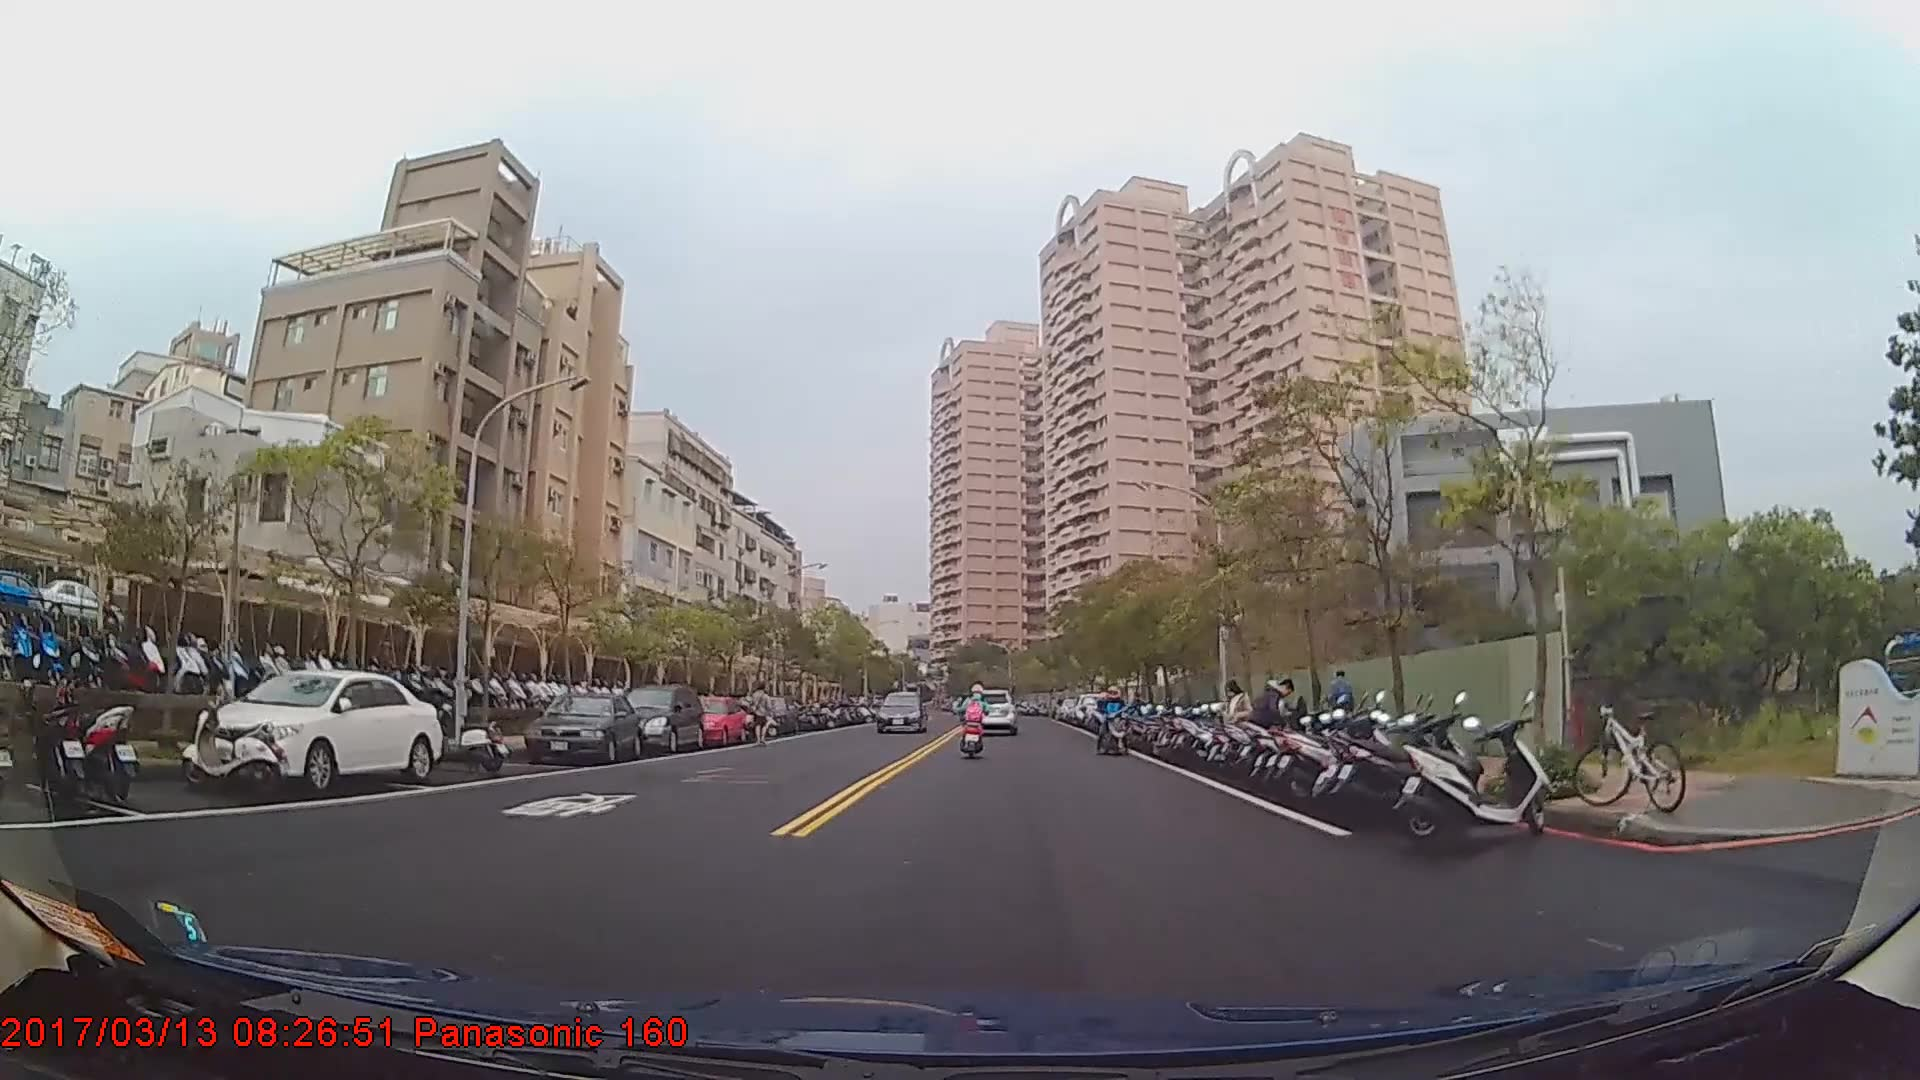pedestrian: (1248, 676, 1297, 779), (1218, 679, 1252, 779), (1325, 669, 1355, 743), (747, 684, 777, 748)
rider: (1096, 687, 1132, 758), (959, 685, 990, 756)
vehicle: (203, 667, 444, 789), (522, 689, 644, 763), (619, 683, 704, 751), (672, 695, 747, 748), (963, 690, 1017, 735), (876, 688, 926, 734)
